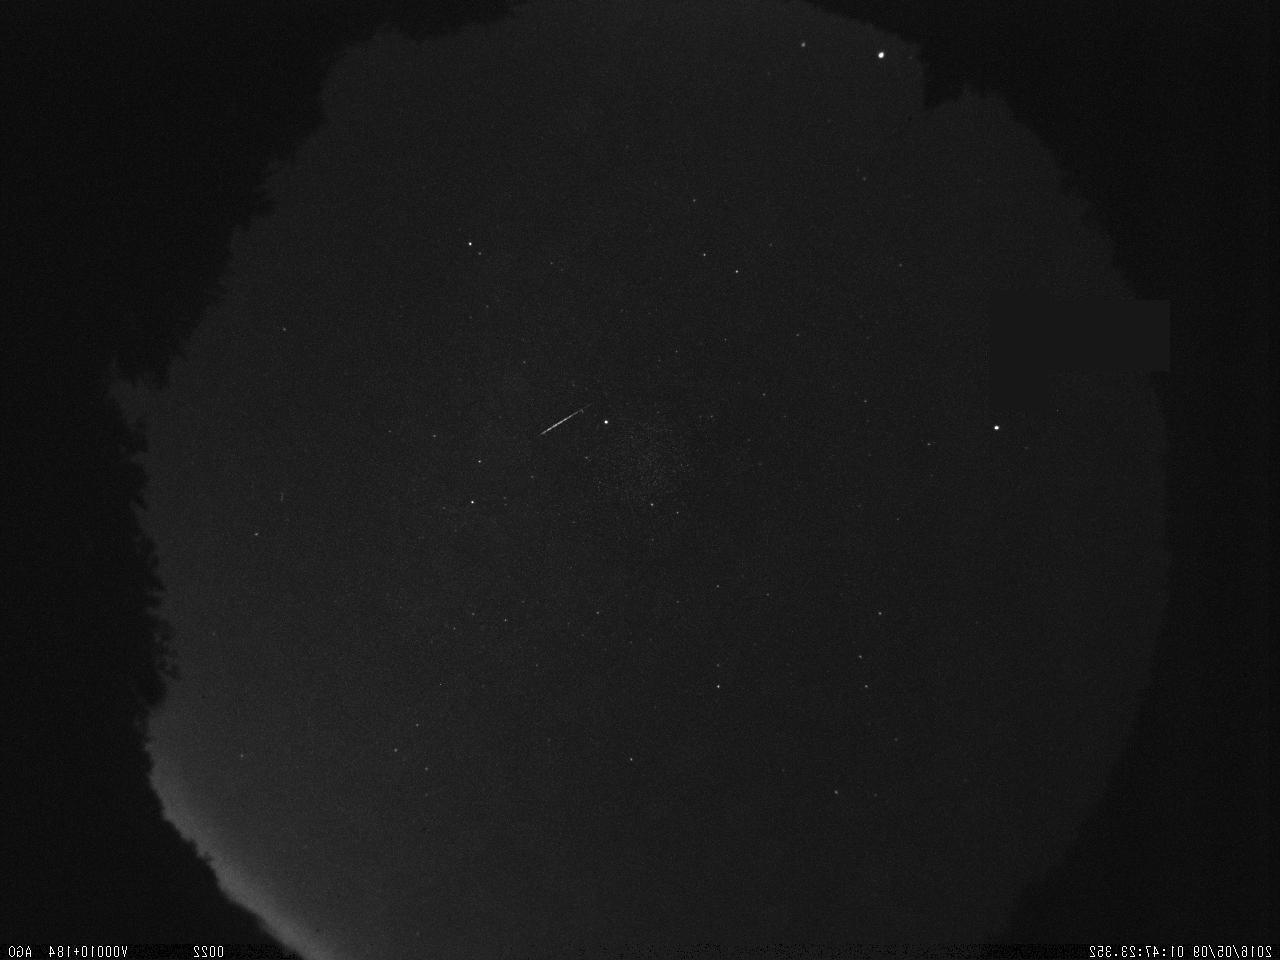meteor: (530, 390, 604, 458)
